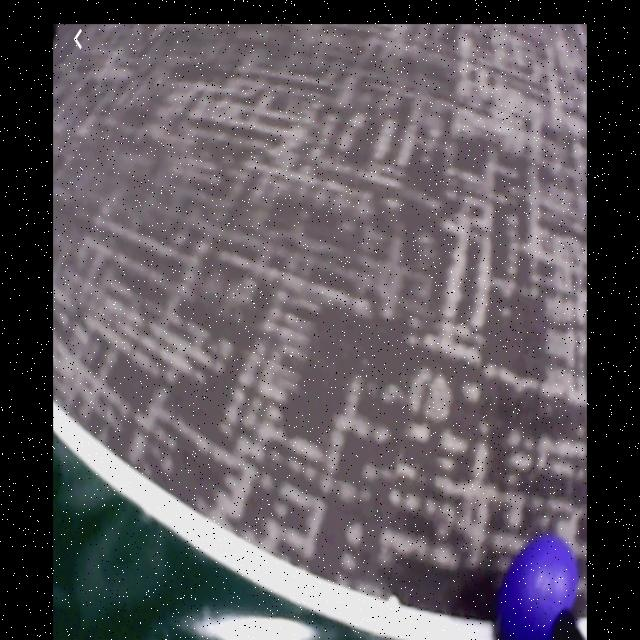ball: (496, 534, 578, 640)
